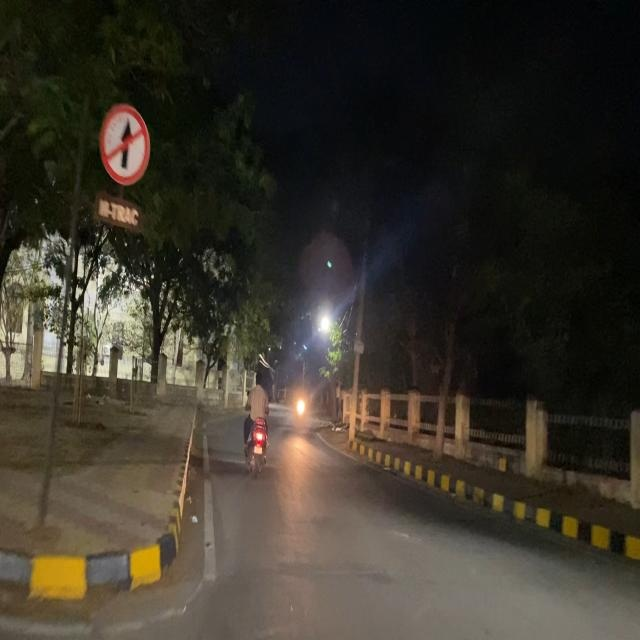bien_cam: (99, 101, 151, 187)
